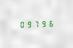nine: (25, 20, 31, 28), (39, 19, 45, 27)
seven: (32, 20, 38, 27)
six: (46, 19, 52, 27)
zero: (18, 20, 24, 28)
